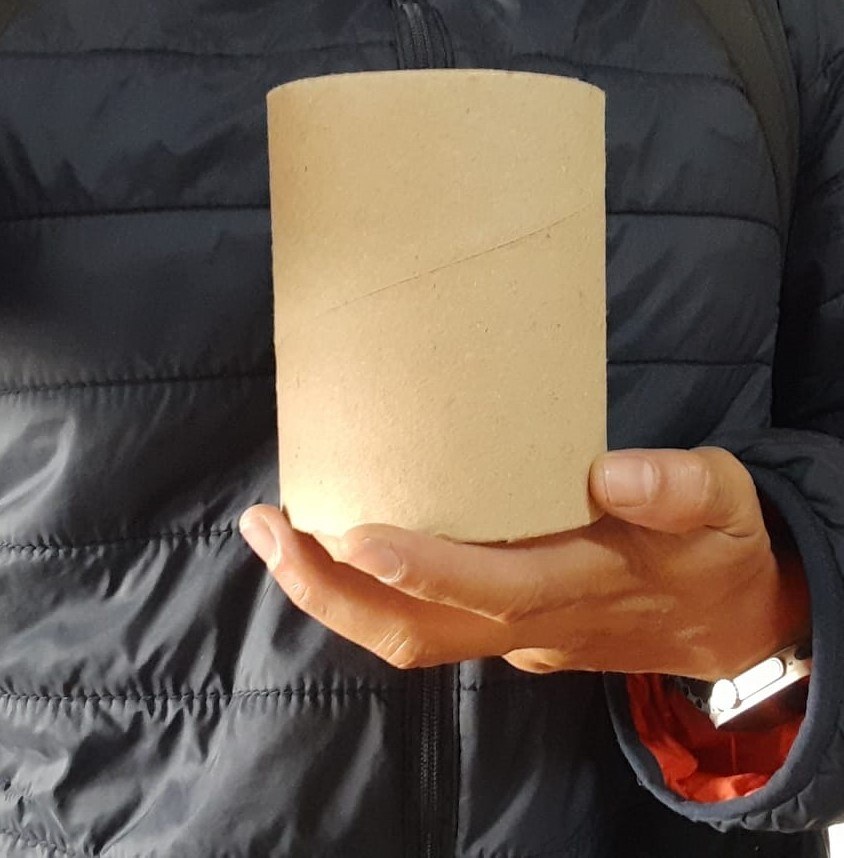Carton: (266, 68, 611, 541)
